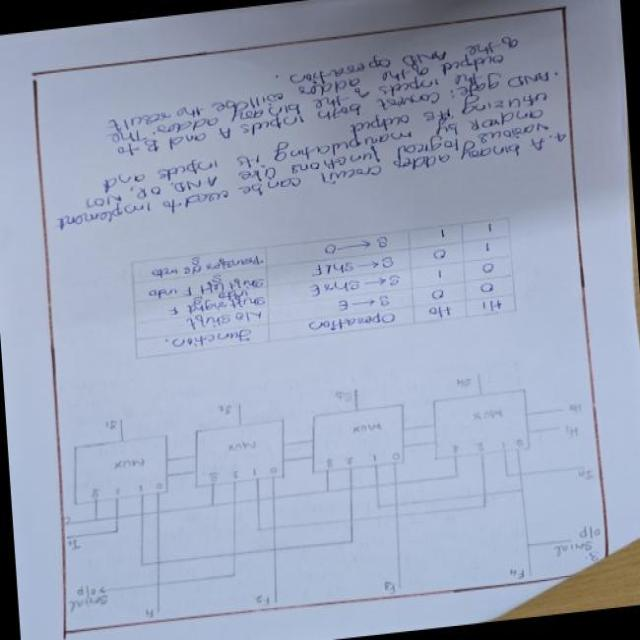Figure Detection - v3 Dataset Version2: (54, 351, 612, 636)
